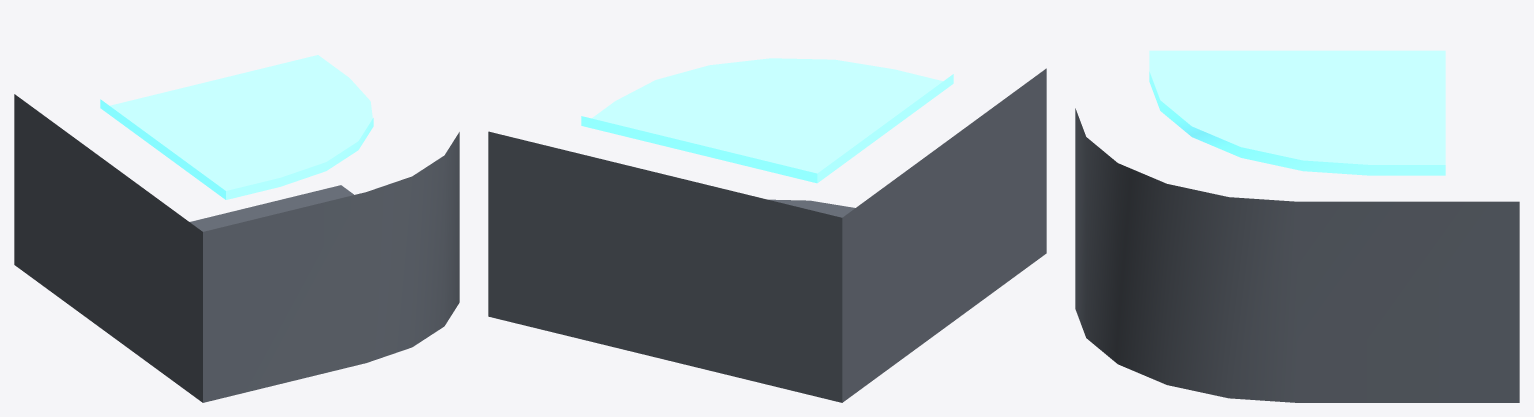
File: ext_curb_corner_05.glb
The picture shows the model from 3 angles, left to right: view 1: azimuth 30°, elevation 25°; view 2: azimuth 150°, elevation 25°; view 3: azimuth 270°, elevation 25°; orthographic projection. The views are drawn at different scales.
Parts seen in each view (by area): view 1: Curb, Glow_Cap; view 2: Curb, Glow_Cap; view 3: Curb, Glow_Cap.
Part boxes in pixels (left/top/right/bottom): Curb: left=14, top=94, right=459, bottom=402; Glow_Cap: left=100, top=55, right=373, bottom=199; Curb: left=488, top=68, right=1046, bottom=402; Glow_Cap: left=581, top=58, right=953, bottom=183; Curb: left=1075, top=108, right=1519, bottom=402; Glow_Cap: left=1149, top=50, right=1445, bottom=175.
Bounding box in the file's own units: 0.3 × 0.154 × 0.3.
